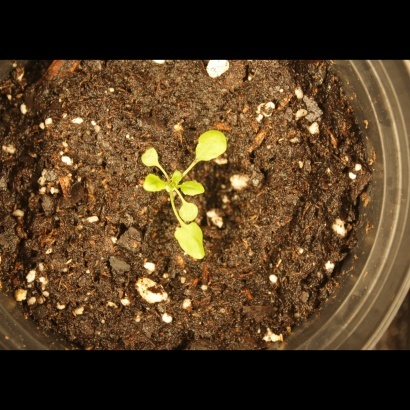leaf: (174, 215, 209, 268), (189, 123, 233, 164), (135, 143, 168, 172), (178, 176, 212, 202), (141, 171, 172, 195), (176, 202, 200, 225)
